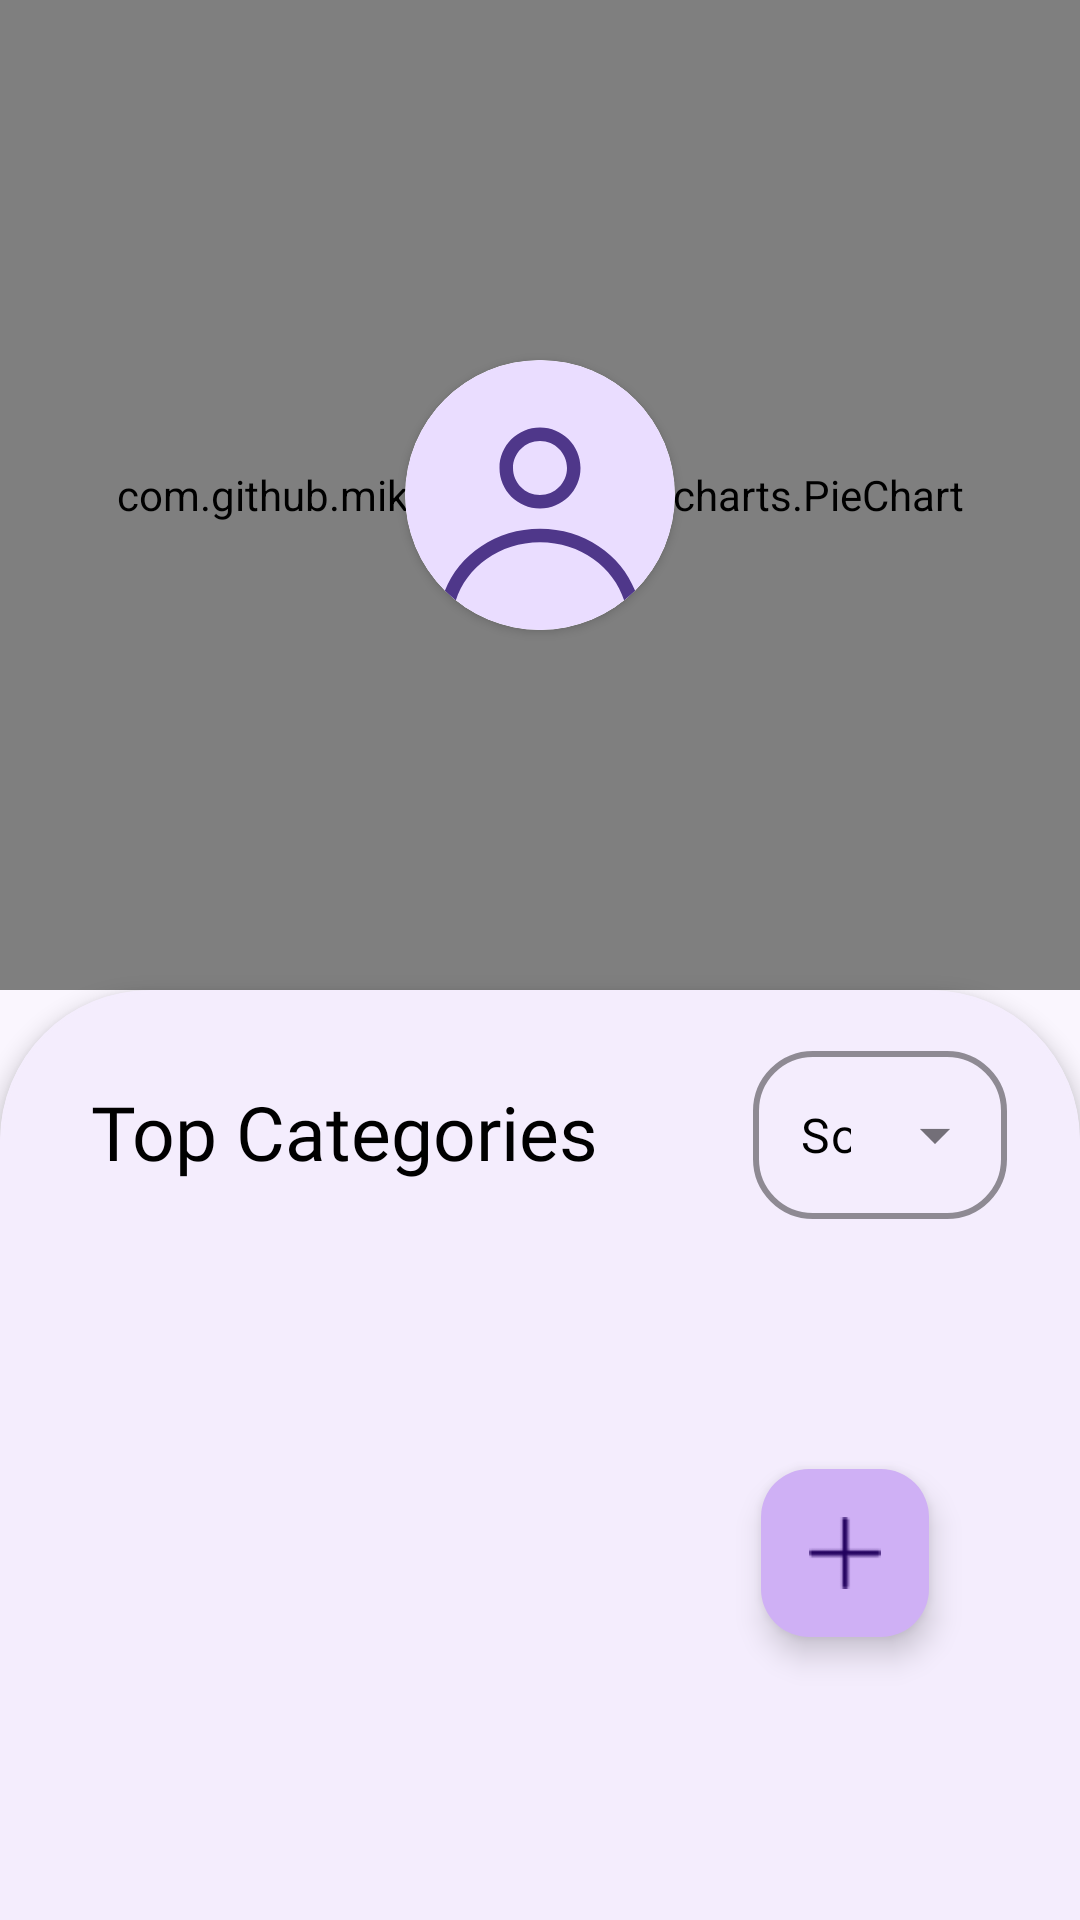

Where icons sit on this 1080w x 1920h app screen, as [left=x1, top=y1, right=x2, bottom=y2]:
plus: [left=761, top=1469, right=929, bottom=1637]
